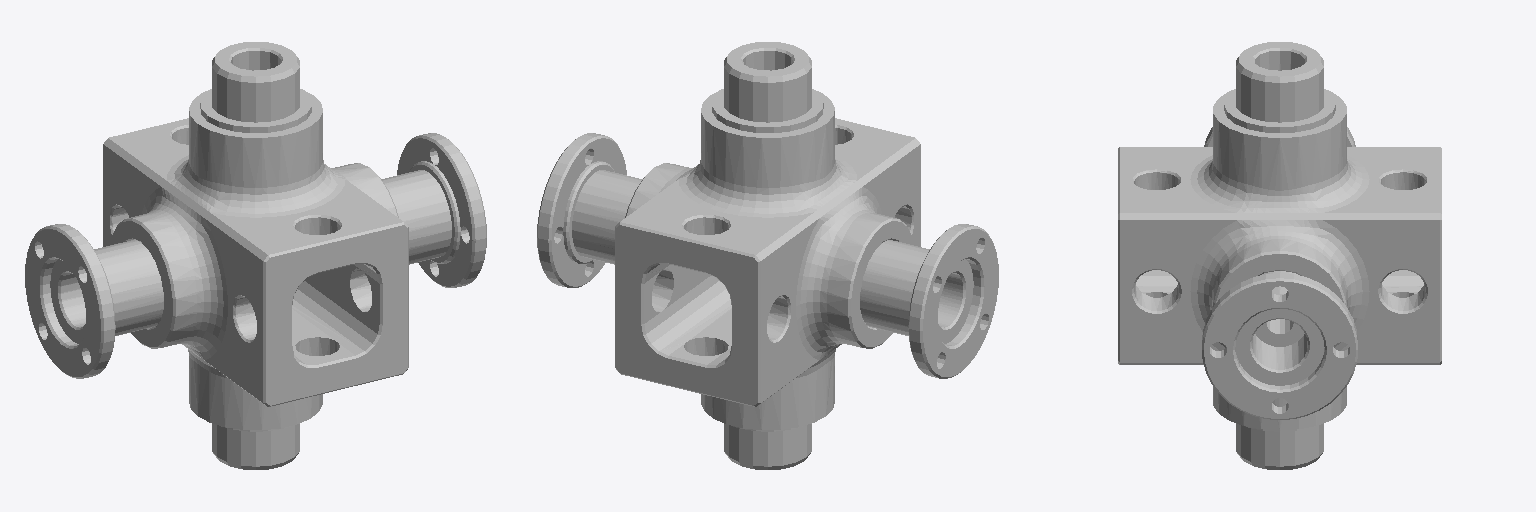
Rendered from left_foot_pitch_link.obj.
The picture shows the model from 3 angles: view 1: azimuth 30°, elevation 25°; view 2: azimuth 150°, elevation 25°; view 3: azimuth 270°, elevation 25°; orthographic projection.
Parts seen in each view (by area): view 1: left_foot_pitch_link; view 2: left_foot_pitch_link; view 3: left_foot_pitch_link.
Boxes of the visible parts, x1,y1,x2,y2 form: left_foot_pitch_link: [25, 42, 486, 469]; left_foot_pitch_link: [537, 42, 998, 469]; left_foot_pitch_link: [1118, 42, 1441, 469].
Bounding box in the file's own units: 0.0398 × 0.0388 × 0.029.